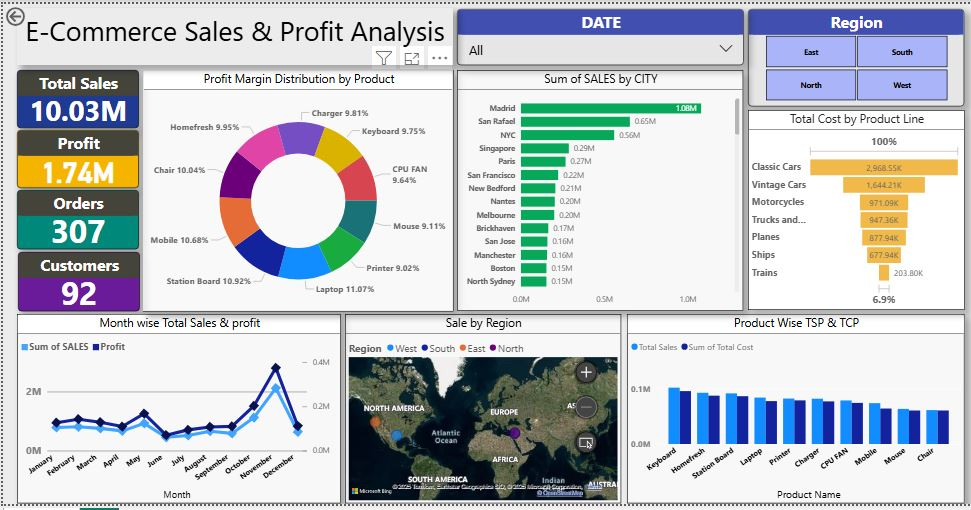

Layout of this report page (visuals, bound fields, positions):
{"tool":"powerbi","page":{"name":"Page 1","canvas":[1550,800],"ordinal":0},"visuals":[{"type":"card","title":"Total Sales","fields":{"Values":["sales_data_sample.Total Sales"]},"box":[21.7,105,195,93.3],"z":0},{"type":"card","title":"Profit","fields":{"Values":["sales_data_sample.Profit"]},"box":[21.7,201.7,195,93.3],"z":1000},{"type":"card","title":"Orders","fields":{"Values":["sales_data_sample.Orders"]},"box":[21.7,298.3,195,95],"z":2000},{"type":"card","title":"Customers","fields":{"Values":["sales_data_sample.Customers"]},"box":[23.3,396.7,195,95],"z":3000},{"type":"lineChart","title":"Month wise Total Sales & profit","fields":{"Category":["sales_data_sample.ORDER DATE.Variation.Date Hierarchy.Month"],"Y":["Sum(sales_data_sample.SALES)"],"Y2":["sales_data_sample.Profit"]},"box":[21.7,496.7,518.3,303.3],"z":4000},{"type":"clusteredColumnChart","title":"Product Wise TSP &  TCP","fields":{"Category":["sales_data_sample.Product Name"],"Y":["sales_data_sample.Total Sales","Sum(sales_data_sample.Total Cost)"]},"box":[998.3,496.7,540,303.3],"z":5000},{"type":"map","title":"Sale by Region","fields":{"Category":["sales_data_sample.Region"],"Series":["sales_data_sample.Region"],"Size":["sales_data_sample.Total Sales"]},"box":[546.7,496.7,441.7,303.3],"z":6000},{"type":"slicer","title":"Region","fields":{"Values":["sales_data_sample.Region"]},"box":[1192,8,345.6,156],"z":7000},{"type":"donutChart","title":"Profit Margin Distribution by Product","fields":{"Y":["sales_data_sample.Profit Margin %"],"Category":["sales_data_sample.Product Name"]},"box":[223.3,105,496.7,386.7],"z":8000},{"type":"clusteredBarChart","fields":{"Category":["sales_data_sample.CITY"],"Y":["Sum(sales_data_sample.SALES)"]},"box":[726.7,105,458.3,385],"z":9000},{"type":"slicer","title":"DATE","fields":{"Values":["sales_data_sample.YEAR_ID","sales_data_sample.MONTH_NAME"]},"box":[726.7,8.3,459,90],"z":10000},{"type":"textbox","box":[22.4,6.4,697.6,91.2],"z":11000},{"type":"funnel","title":"Total Cost by Product Line","fields":{"Y":["Sum(sales_data_sample.Total Cost)"],"Category":["sales_data_sample.PRODUCT LINE"]},"box":[1191.7,170,346.7,320],"z":12000},{"type":"actionButton","box":[0,0,100,40],"z":13000}]}

Visuals, with their boxes in screenshot pixels (x1, y1, x2, y2), scaled from the page's 1550x800 canvas onto the 971x510 screenshot:
"Total Sales" card: (x1=14, y1=67, x2=136, y2=126)
"Profit" card: (x1=14, y1=129, x2=136, y2=188)
"Orders" card: (x1=14, y1=190, x2=136, y2=251)
"Customers" card: (x1=15, y1=253, x2=137, y2=313)
"Month wise Total Sales & profit" lineChart: (x1=14, y1=317, x2=338, y2=509)
"Product Wise TSP &  TCP" clusteredColumnChart: (x1=625, y1=317, x2=964, y2=509)
"Sale by Region" map: (x1=342, y1=317, x2=619, y2=509)
"Region" slicer: (x1=747, y1=5, x2=963, y2=105)
"Profit Margin Distribution by Product" donutChart: (x1=140, y1=67, x2=451, y2=313)
clusteredBarChart - sales_data_sample.CITY x Sum(sales_data_sample.SALES): (x1=455, y1=67, x2=742, y2=312)
"DATE" slicer: (x1=455, y1=5, x2=743, y2=63)
textbox: (x1=14, y1=4, x2=451, y2=62)
"Total Cost by Product Line" funnel: (x1=747, y1=108, x2=964, y2=312)
actionButton: (x1=0, y1=0, x2=63, y2=26)
